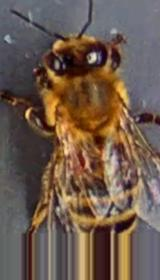varroa_mite: (64, 142, 90, 174)
